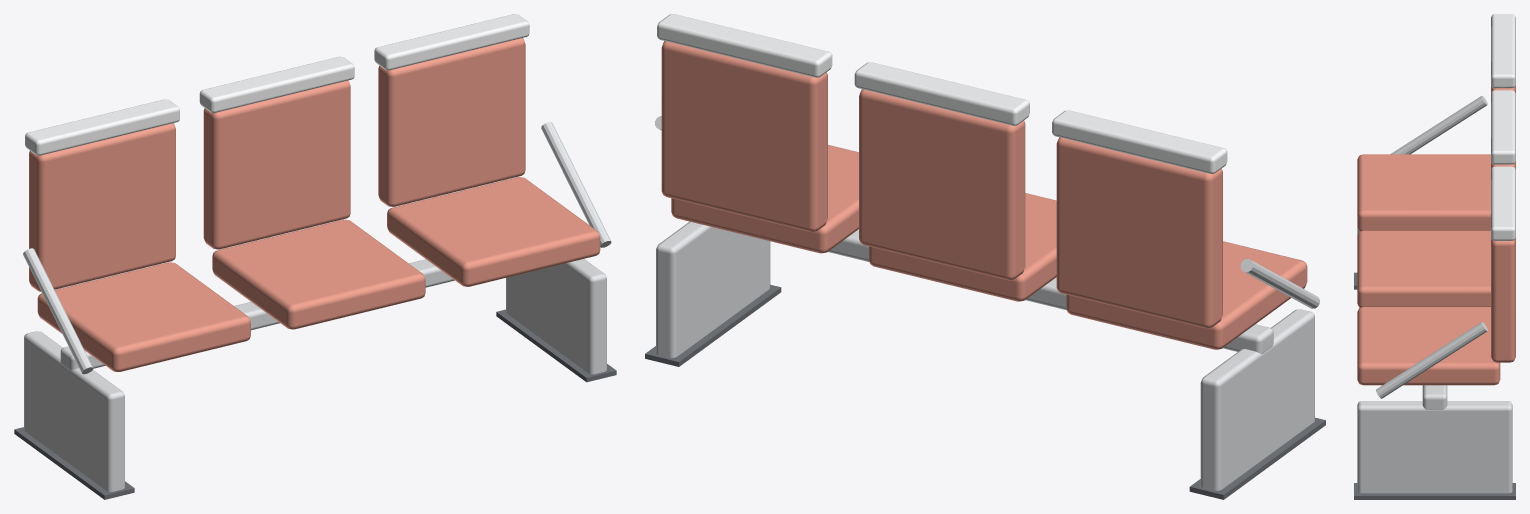
Rendered from coral_chairs.glb.
The picture shows the model from 3 angles, left to right: view 1: azimuth 30°, elevation 25°; view 2: azimuth 150°, elevation 25°; view 3: azimuth 270°, elevation 25°; orthographic projection. The views are drawn at different scales.
Visible parts, largest first — view 1: waiting-chairs-run-coral; view 2: waiting-chairs-run-coral; view 3: waiting-chairs-run-coral.
Part boxes in pixels (x1,y1,x2,y2): waiting-chairs-run-coral: [14, 14, 616, 499]; waiting-chairs-run-coral: [645, 14, 1325, 499]; waiting-chairs-run-coral: [1354, 14, 1515, 499].
Size of the model in its own units: 1.76 by 0.9501 by 0.52.
